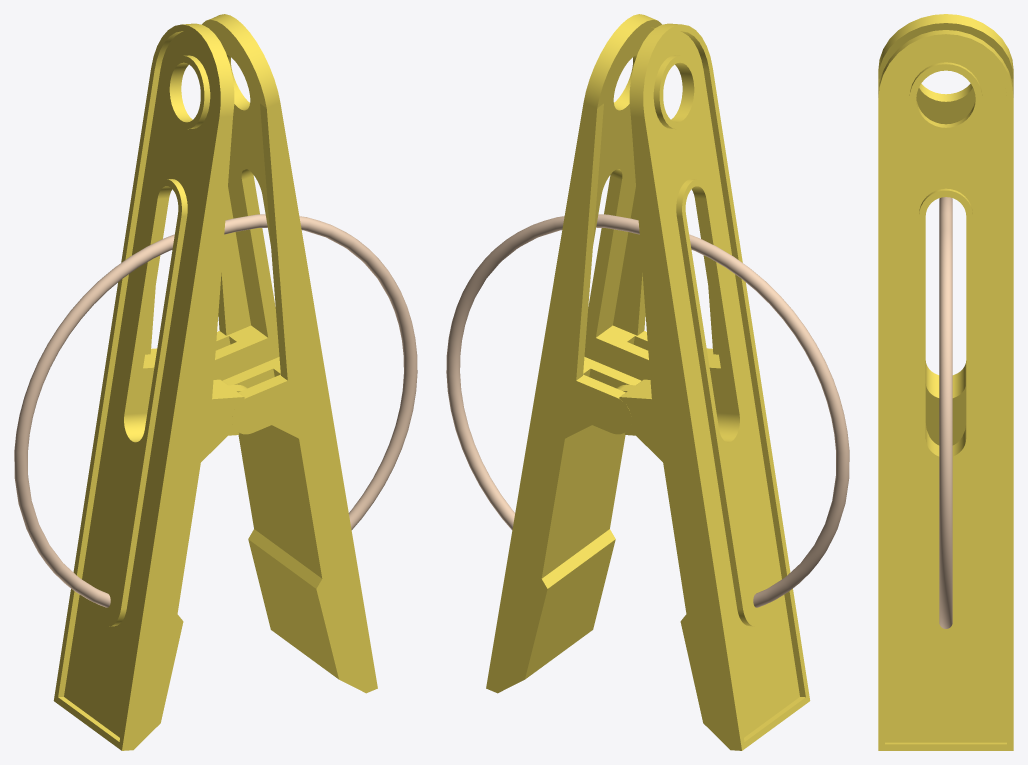
The model's file is 054_洗濯バサミ開.glb.
3 renders of one model, left to right at view 1: azimuth 30°, elevation 25°; view 2: azimuth 150°, elevation 25°; view 3: azimuth 270°, elevation 25°, orthographic.
Visible parts, largest first — view 1: Body.001; view 2: Body.001; view 3: Body.001.
Boxes of the visible parts, left/top/right/bottom form: Body.001: left=14, top=14, right=417, bottom=750; Body.001: left=446, top=14, right=849, bottom=750; Body.001: left=878, top=14, right=1013, bottom=750.
Size of the model in its own units: 0.034 by 0.0544 by 0.01.
